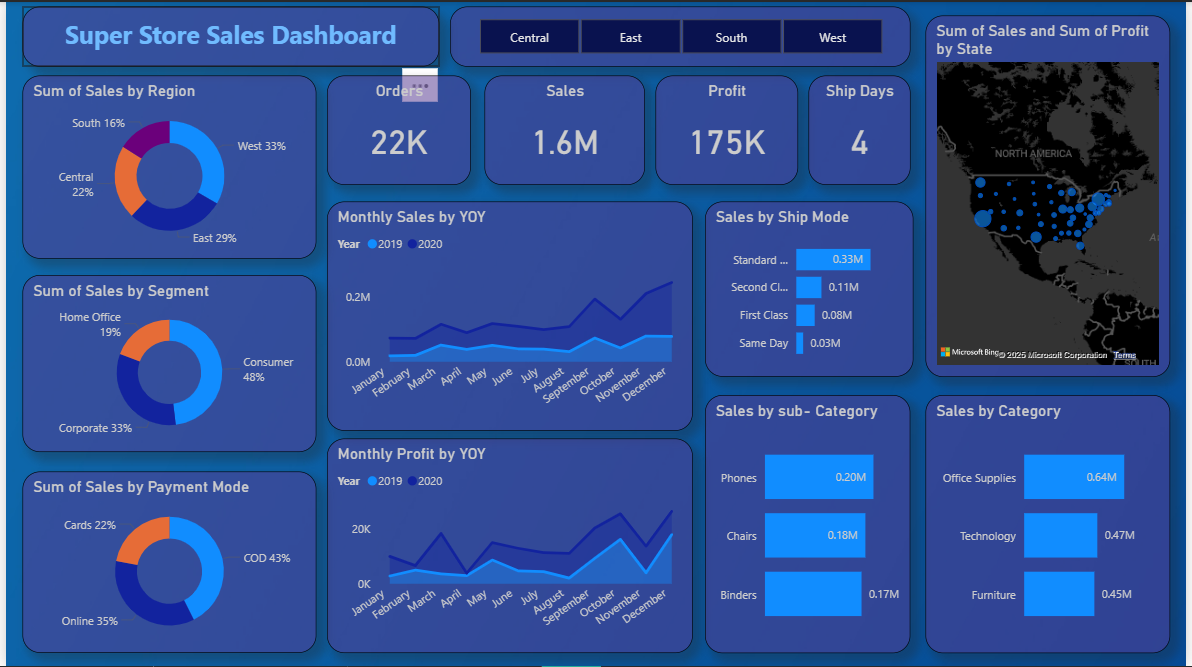

The dashboard page shown, as its layout file describes it:
{"tool":"powerbi","page":{"name":"Sales dashboard","canvas":[1280,720],"ordinal":0},"visuals":[{"type":"clusteredBarChart","title":" Sales by Category","fields":{"Category":["SuperStore_Sales_Dataset.Category"],"Y":["Sum(SuperStore_Sales_Dataset.Sales)"]},"box":[997.1,426.2,265.1,279.8],"z":0},{"type":"clusteredBarChart","title":" Sales by sub- Category","fields":{"Category":["SuperStore_Sales_Dataset.Sub-Category"],"Y":["Sum(SuperStore_Sales_Dataset.Sales)"]},"box":[758,426.2,222.8,279.8],"z":1000},{"type":"clusteredBarChart","title":" Sales by Ship Mode","fields":{"Category":["SuperStore_Sales_Dataset.Ship Mode"],"Y":["Sum(SuperStore_Sales_Dataset.Sales)"]},"box":[758,216.3,226.1,190.3],"z":2000},{"type":"stackedAreaChart","title":"Monthly Sales by YOY","fields":{"Category":["SuperStore_Sales_Dataset.Order Date.Variation.Date Hierarchy.Month"],"Y":["Sum(SuperStore_Sales_Dataset.Sales)"],"Series":["SuperStore_Sales_Dataset.Order Date.Variation.Date Hierarchy.Year"]},"box":[348.1,216.3,396.9,248.9],"z":3000},{"type":"stackedAreaChart","title":"Monthly Profit by YOY","fields":{"Category":["SuperStore_Sales_Dataset.Order Date.Variation.Date Hierarchy.Month"],"Series":["SuperStore_Sales_Dataset.Order Date.Variation.Date Hierarchy.Year"],"Y":["Sum(SuperStore_Sales_Dataset.Profit)"]},"box":[348.1,473.3,396.9,232.6],"z":4000},{"type":"map","fields":{"Category":["SuperStore_Sales_Dataset.State"],"Size":["Sum(SuperStore_Sales_Dataset.Sales)"]},"box":[997.1,14.6,265.1,392],"z":5000},{"type":"donutChart","fields":{"Category":["SuperStore_Sales_Dataset.Segment"],"Y":["Sum(SuperStore_Sales_Dataset.Sales)"]},"box":[17.9,296,318.8,191.9],"z":6000},{"type":"donutChart","fields":{"Category":["SuperStore_Sales_Dataset.Payment Mode"],"Y":["Sum(SuperStore_Sales_Dataset.Sales)"]},"box":[17.9,509.1,318.8,196.8],"z":7000},{"type":"slicer","fields":{"Values":["SuperStore_Sales_Dataset.Region"]},"box":[481.5,4.9,499.3,65.1],"z":8000},{"type":"textbox","box":[17.9,4.9,452.2,65.1],"z":9000},{"type":"card","title":"Sales","fields":{"Values":["Sum(SuperStore_Sales_Dataset.Sales)"]},"box":[518.9,79.7,174,118.7],"z":10000},{"type":"card","title":"Profit","fields":{"Values":["Sum(SuperStore_Sales_Dataset.Profit)"]},"box":[704.3,79.7,154.5,118.7],"z":11000},{"type":"card","title":"Orders","fields":{"Values":["Sum(SuperStore_Sales_Dataset.Quantity)"]},"box":[348.1,79.7,156.1,118.7],"z":12000},{"type":"card","title":"Ship Days","fields":{"Values":["Avg(SuperStore_Sales_Dataset.AvgDelivery)"]},"box":[870.2,79.7,110.6,118.7],"z":13000},{"type":"donutChart","fields":{"Y":["Sum(SuperStore_Sales_Dataset.Sales)"],"Category":["SuperStore_Sales_Dataset.Region"]},"box":[17.9,79.7,318.8,198.4],"z":14000}]}

Visuals, with their boxes in screenshot pixels (x1, y1, x2, y2), scaled from the page's 1280x720 canvas onto the 1192x667 screenshot:
" Sales by Category" clusteredBarChart: select_region(929, 395, 1175, 654)
" Sales by sub- Category" clusteredBarChart: select_region(706, 395, 913, 654)
" Sales by Ship Mode" clusteredBarChart: select_region(706, 200, 916, 377)
"Monthly Sales by YOY" stackedAreaChart: select_region(324, 200, 694, 431)
"Monthly Profit by YOY" stackedAreaChart: select_region(324, 438, 694, 654)
map - SuperStore_Sales_Dataset.State x Sum(SuperStore_Sales_Dataset.Sales): select_region(929, 14, 1175, 377)
donutChart - SuperStore_Sales_Dataset.Segment x Sum(SuperStore_Sales_Dataset.Sales): select_region(17, 274, 314, 452)
donutChart - SuperStore_Sales_Dataset.Payment Mode x Sum(SuperStore_Sales_Dataset.Sales): select_region(17, 472, 314, 654)
slicer - SuperStore_Sales_Dataset.Region: select_region(448, 5, 913, 65)
textbox: select_region(17, 5, 438, 65)
"Sales" card: select_region(483, 74, 645, 184)
"Profit" card: select_region(656, 74, 800, 184)
"Orders" card: select_region(324, 74, 470, 184)
"Ship Days" card: select_region(810, 74, 913, 184)
donutChart - Sum(SuperStore_Sales_Dataset.Sales) x SuperStore_Sales_Dataset.Region: select_region(17, 74, 314, 258)
